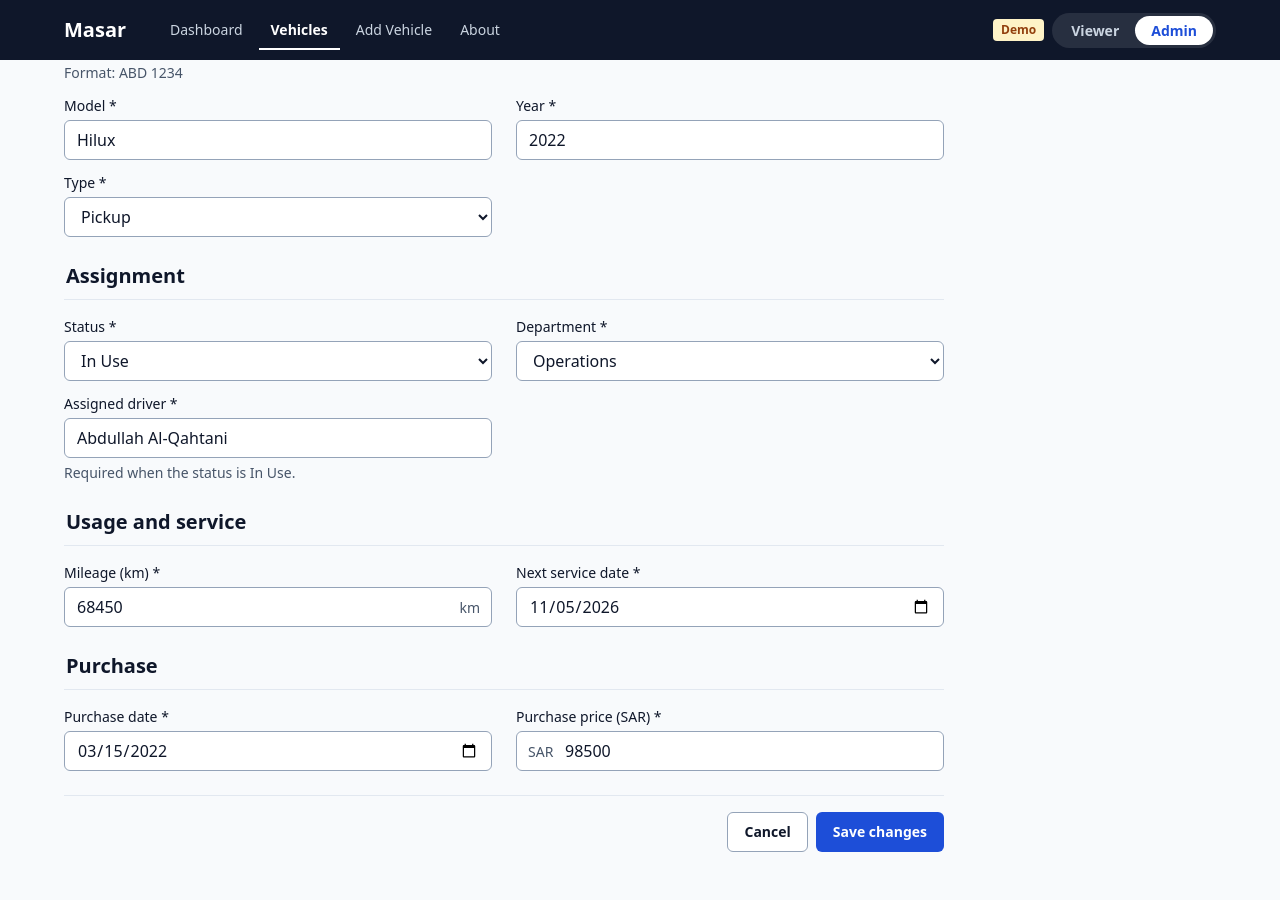
Test case: Edit vehicle (US-5) › rejects a lower mileage (AC-5.5)
The width and height of the screenshot is (1280, 900).
(page scrolled)
Replace the text in the number field labelled "Mileage (km) *" with "60000": [278, 607] box [64, 587, 492, 627]
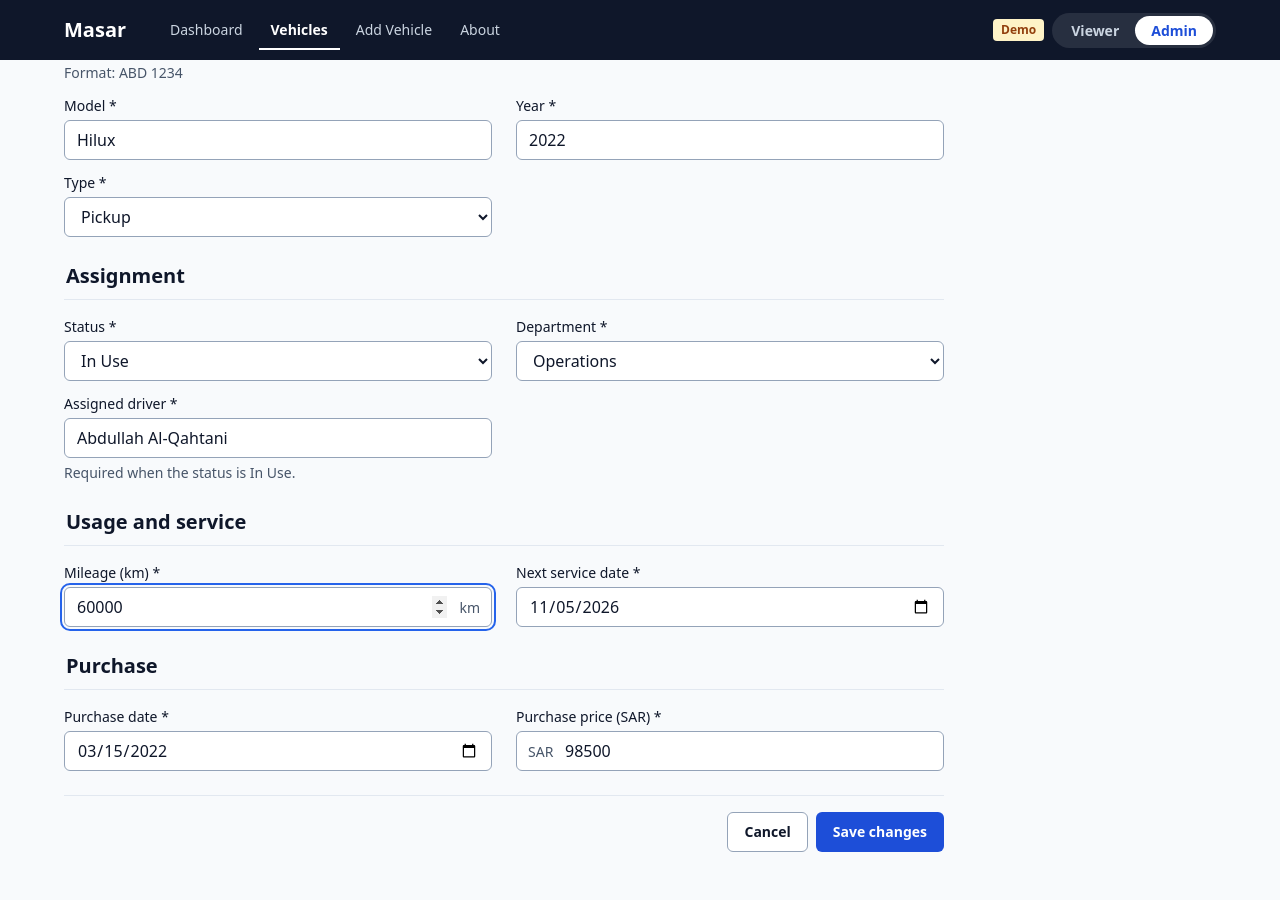
Press Tab
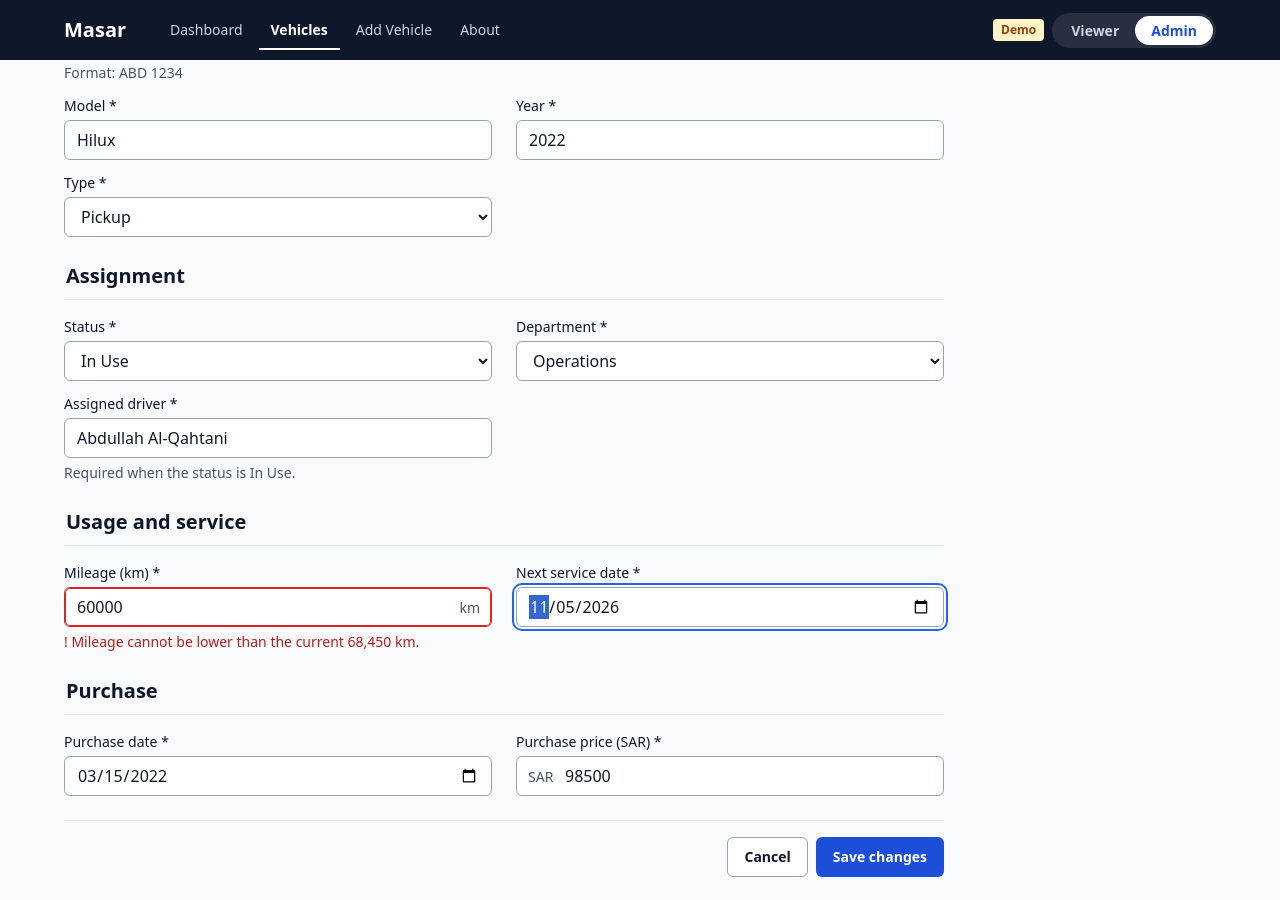
Expected: the text "Mileage cannot be lower than the current 68,450 km." is shown, [71, 632, 419, 651]
